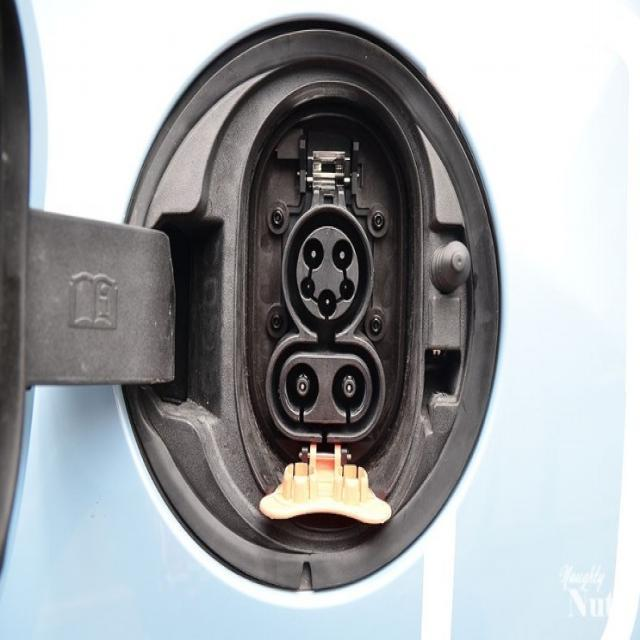CCS1: (258, 206, 404, 440)
